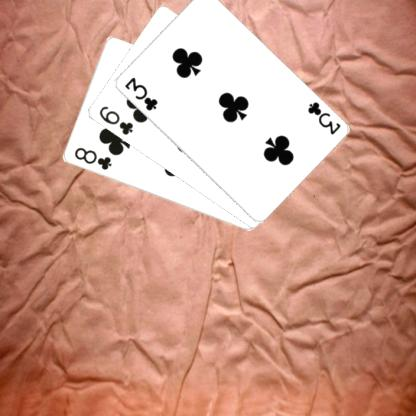3C: (121, 74, 159, 112), (304, 98, 342, 136)
6C: (96, 103, 134, 136)
8C: (71, 145, 113, 171)
